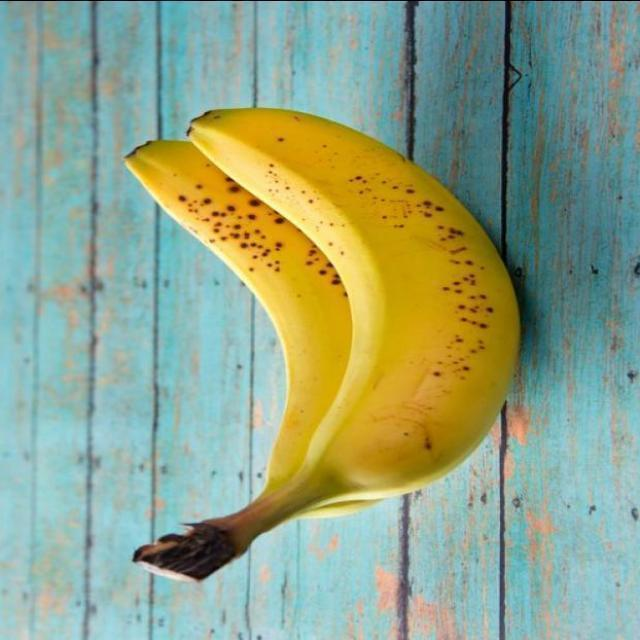organic: (190, 98, 546, 498), (112, 118, 408, 490)
